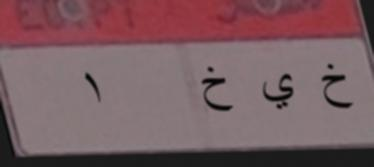1: (80, 66, 106, 112)
khaa: (316, 58, 354, 116), (200, 63, 237, 118)
yaa: (260, 69, 296, 116)
